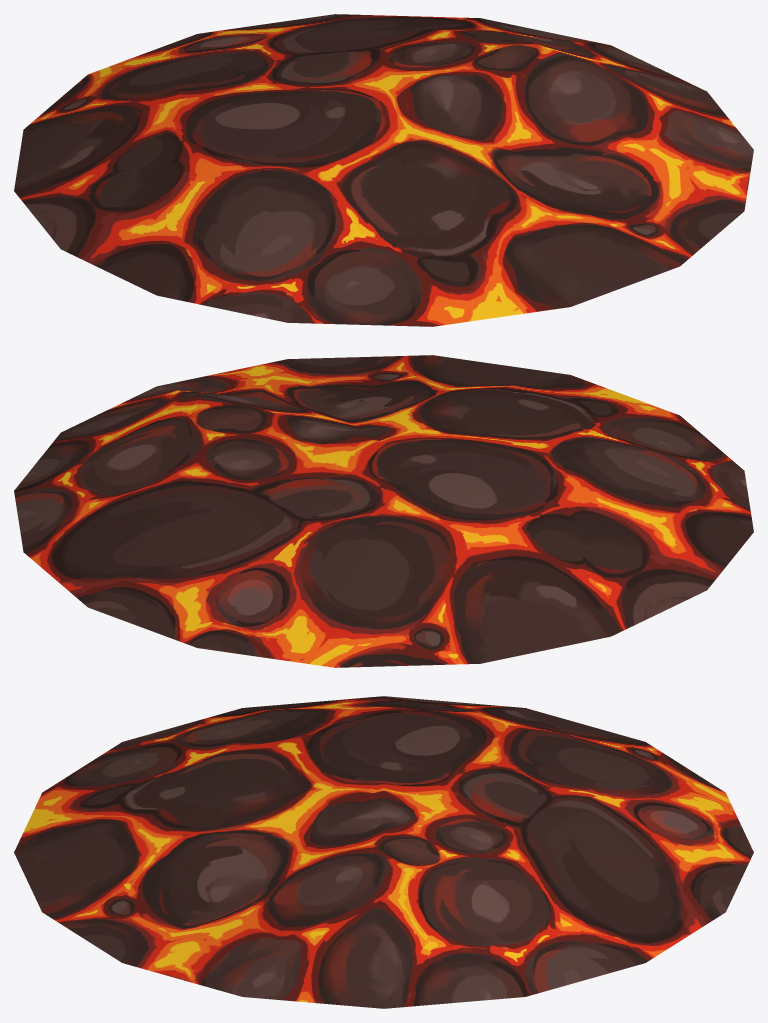
File: SM_PROP_ember_dungeon_01.fbx
3 renders of one model, top to bottom at view 1: azimuth 30°, elevation 25°; view 2: azimuth 150°, elevation 25°; view 3: azimuth 270°, elevation 25°, orthographic.
Visible parts, largest first — view 1: SM_PROP_ember_dungeon_01; view 2: SM_PROP_ember_dungeon_01; view 3: SM_PROP_ember_dungeon_01.
Boxes of the visible parts, x1,y1,x2,y2 form: SM_PROP_ember_dungeon_01: (14, 14, 753, 326); SM_PROP_ember_dungeon_01: (14, 355, 753, 667); SM_PROP_ember_dungeon_01: (14, 696, 753, 1008).
Bounding box in the file's own units: 153 × 16.27 × 153.
